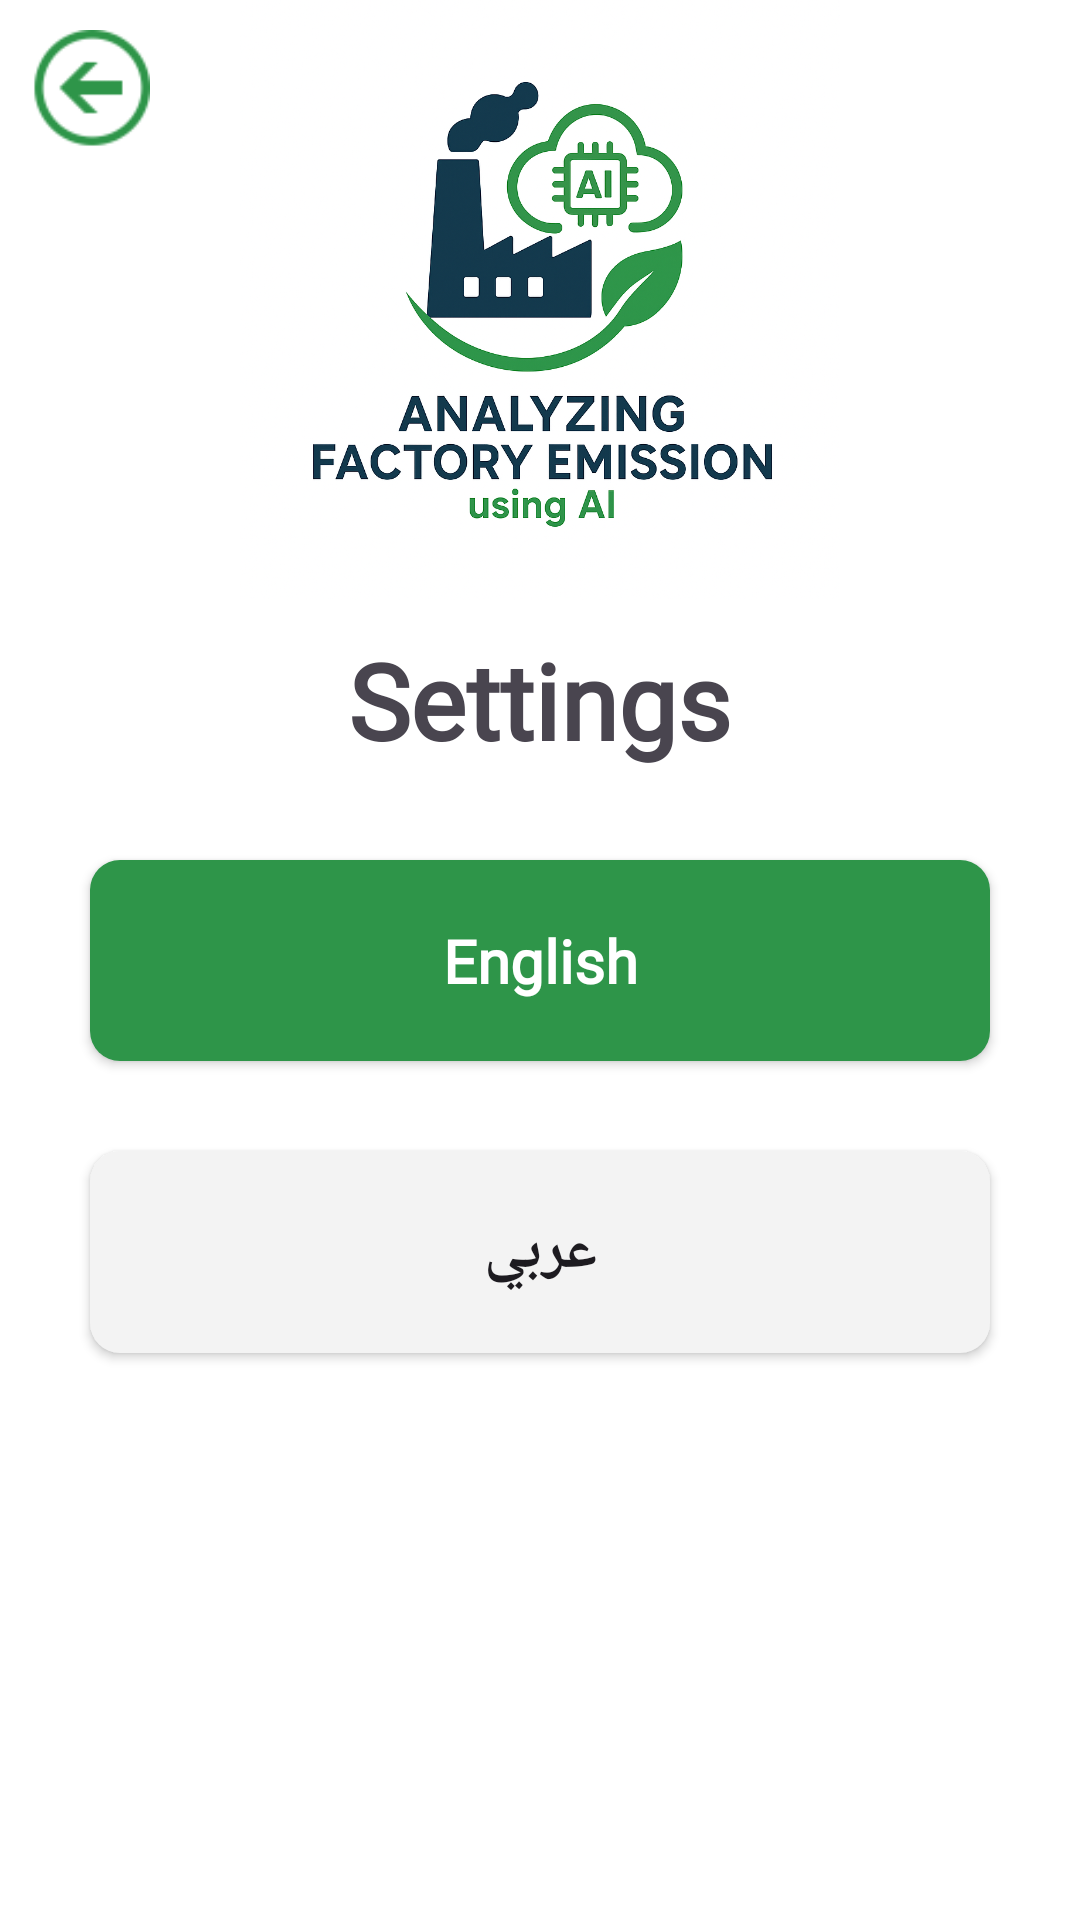

Screen size 1080×1920. Icon name, then its box in pixels as [x1=x1, y1=y1, x2=x2, y2=y2]:
back: [x1=34, y1=30, x2=150, y2=146]
